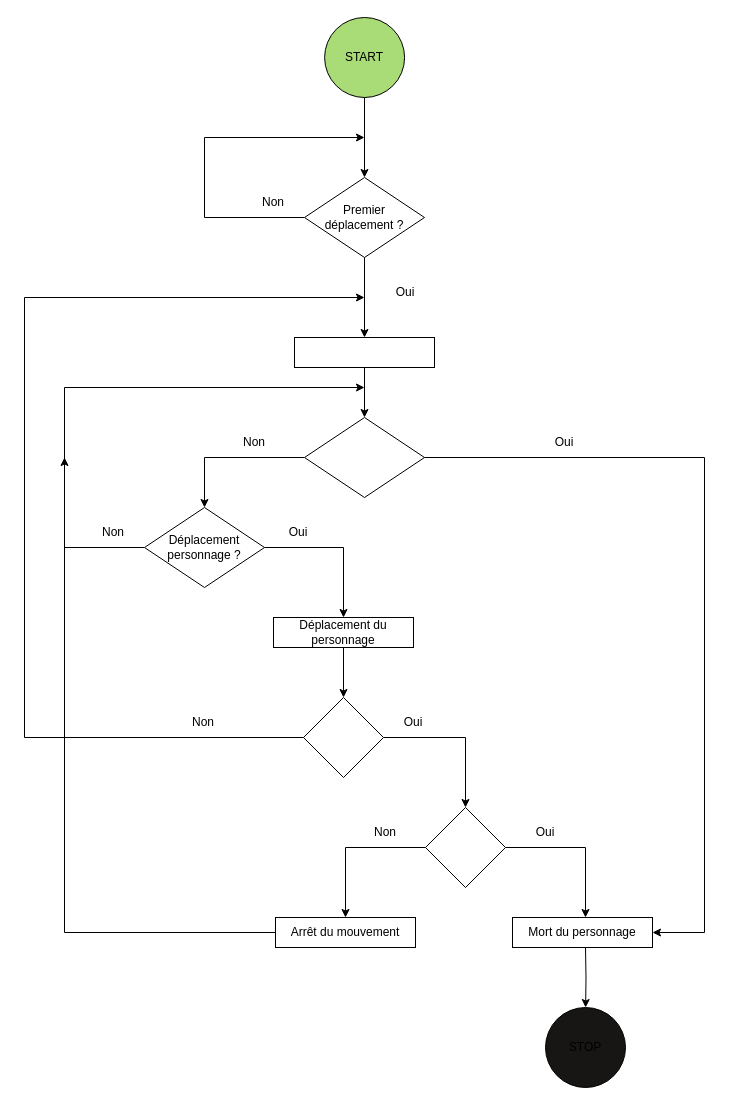
The diagram is 730 pixels wide and 1105 high, and some of its shapes have lost their labels. The centre of each missing label's shape, as x and y in pixels:
Collision ?: the point at 343,737
Collision mortelle ?: the point at 465,847
Lancement du timer d'inactivité: the point at 364,352
Temps écoulé ?: the point at 364,457
